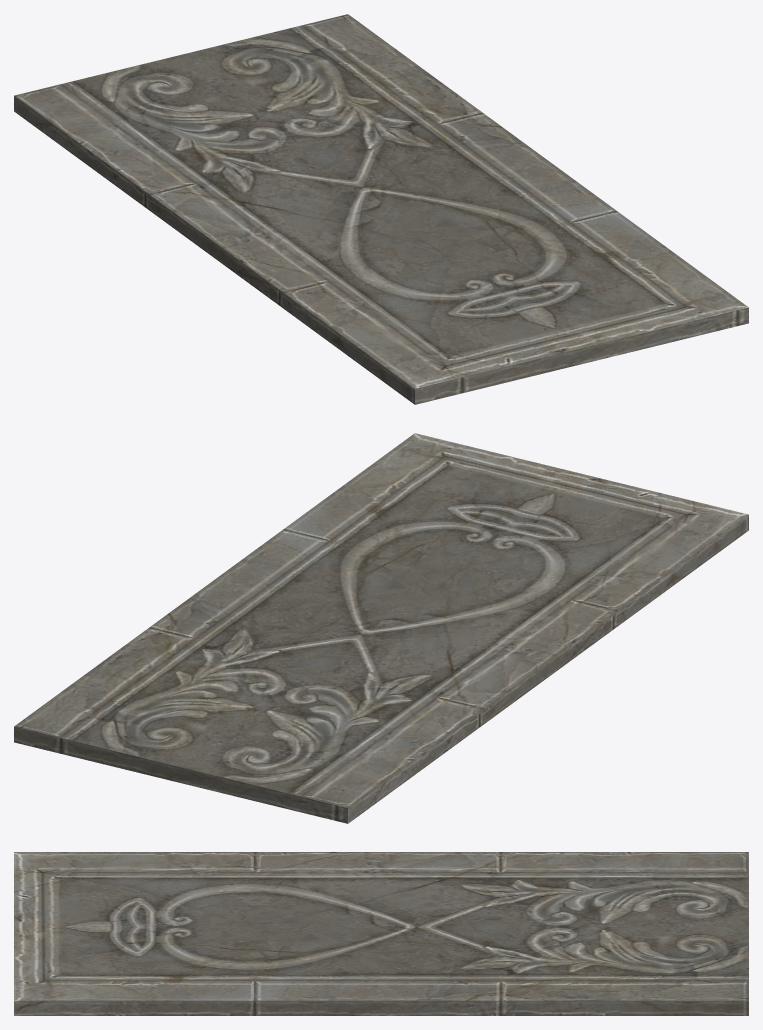
File: bg_lut_lucastle_castleborder03_sm_phs.FBX
3 renders of one model, top to bottom at view 1: azimuth 30°, elevation 25°; view 2: azimuth 150°, elevation 25°; view 3: azimuth 270°, elevation 25°, orthographic. The views are drawn at different scales.
Visible parts, largest first — view 1: bg_lut_lucastle_castleborder03_sm_phs; view 2: bg_lut_lucastle_castleborder03_sm_phs; view 3: bg_lut_lucastle_castleborder03_sm_phs.
Boxes of the visible parts, x1=… form: bg_lut_lucastle_castleborder03_sm_phs: x1=14, y1=14, x2=748, y2=404; bg_lut_lucastle_castleborder03_sm_phs: x1=14, y1=433, x2=748, y2=823; bg_lut_lucastle_castleborder03_sm_phs: x1=14, y1=852, x2=748, y2=1015.
Size of the model in its own units: 219 by 9.93 by 456.
